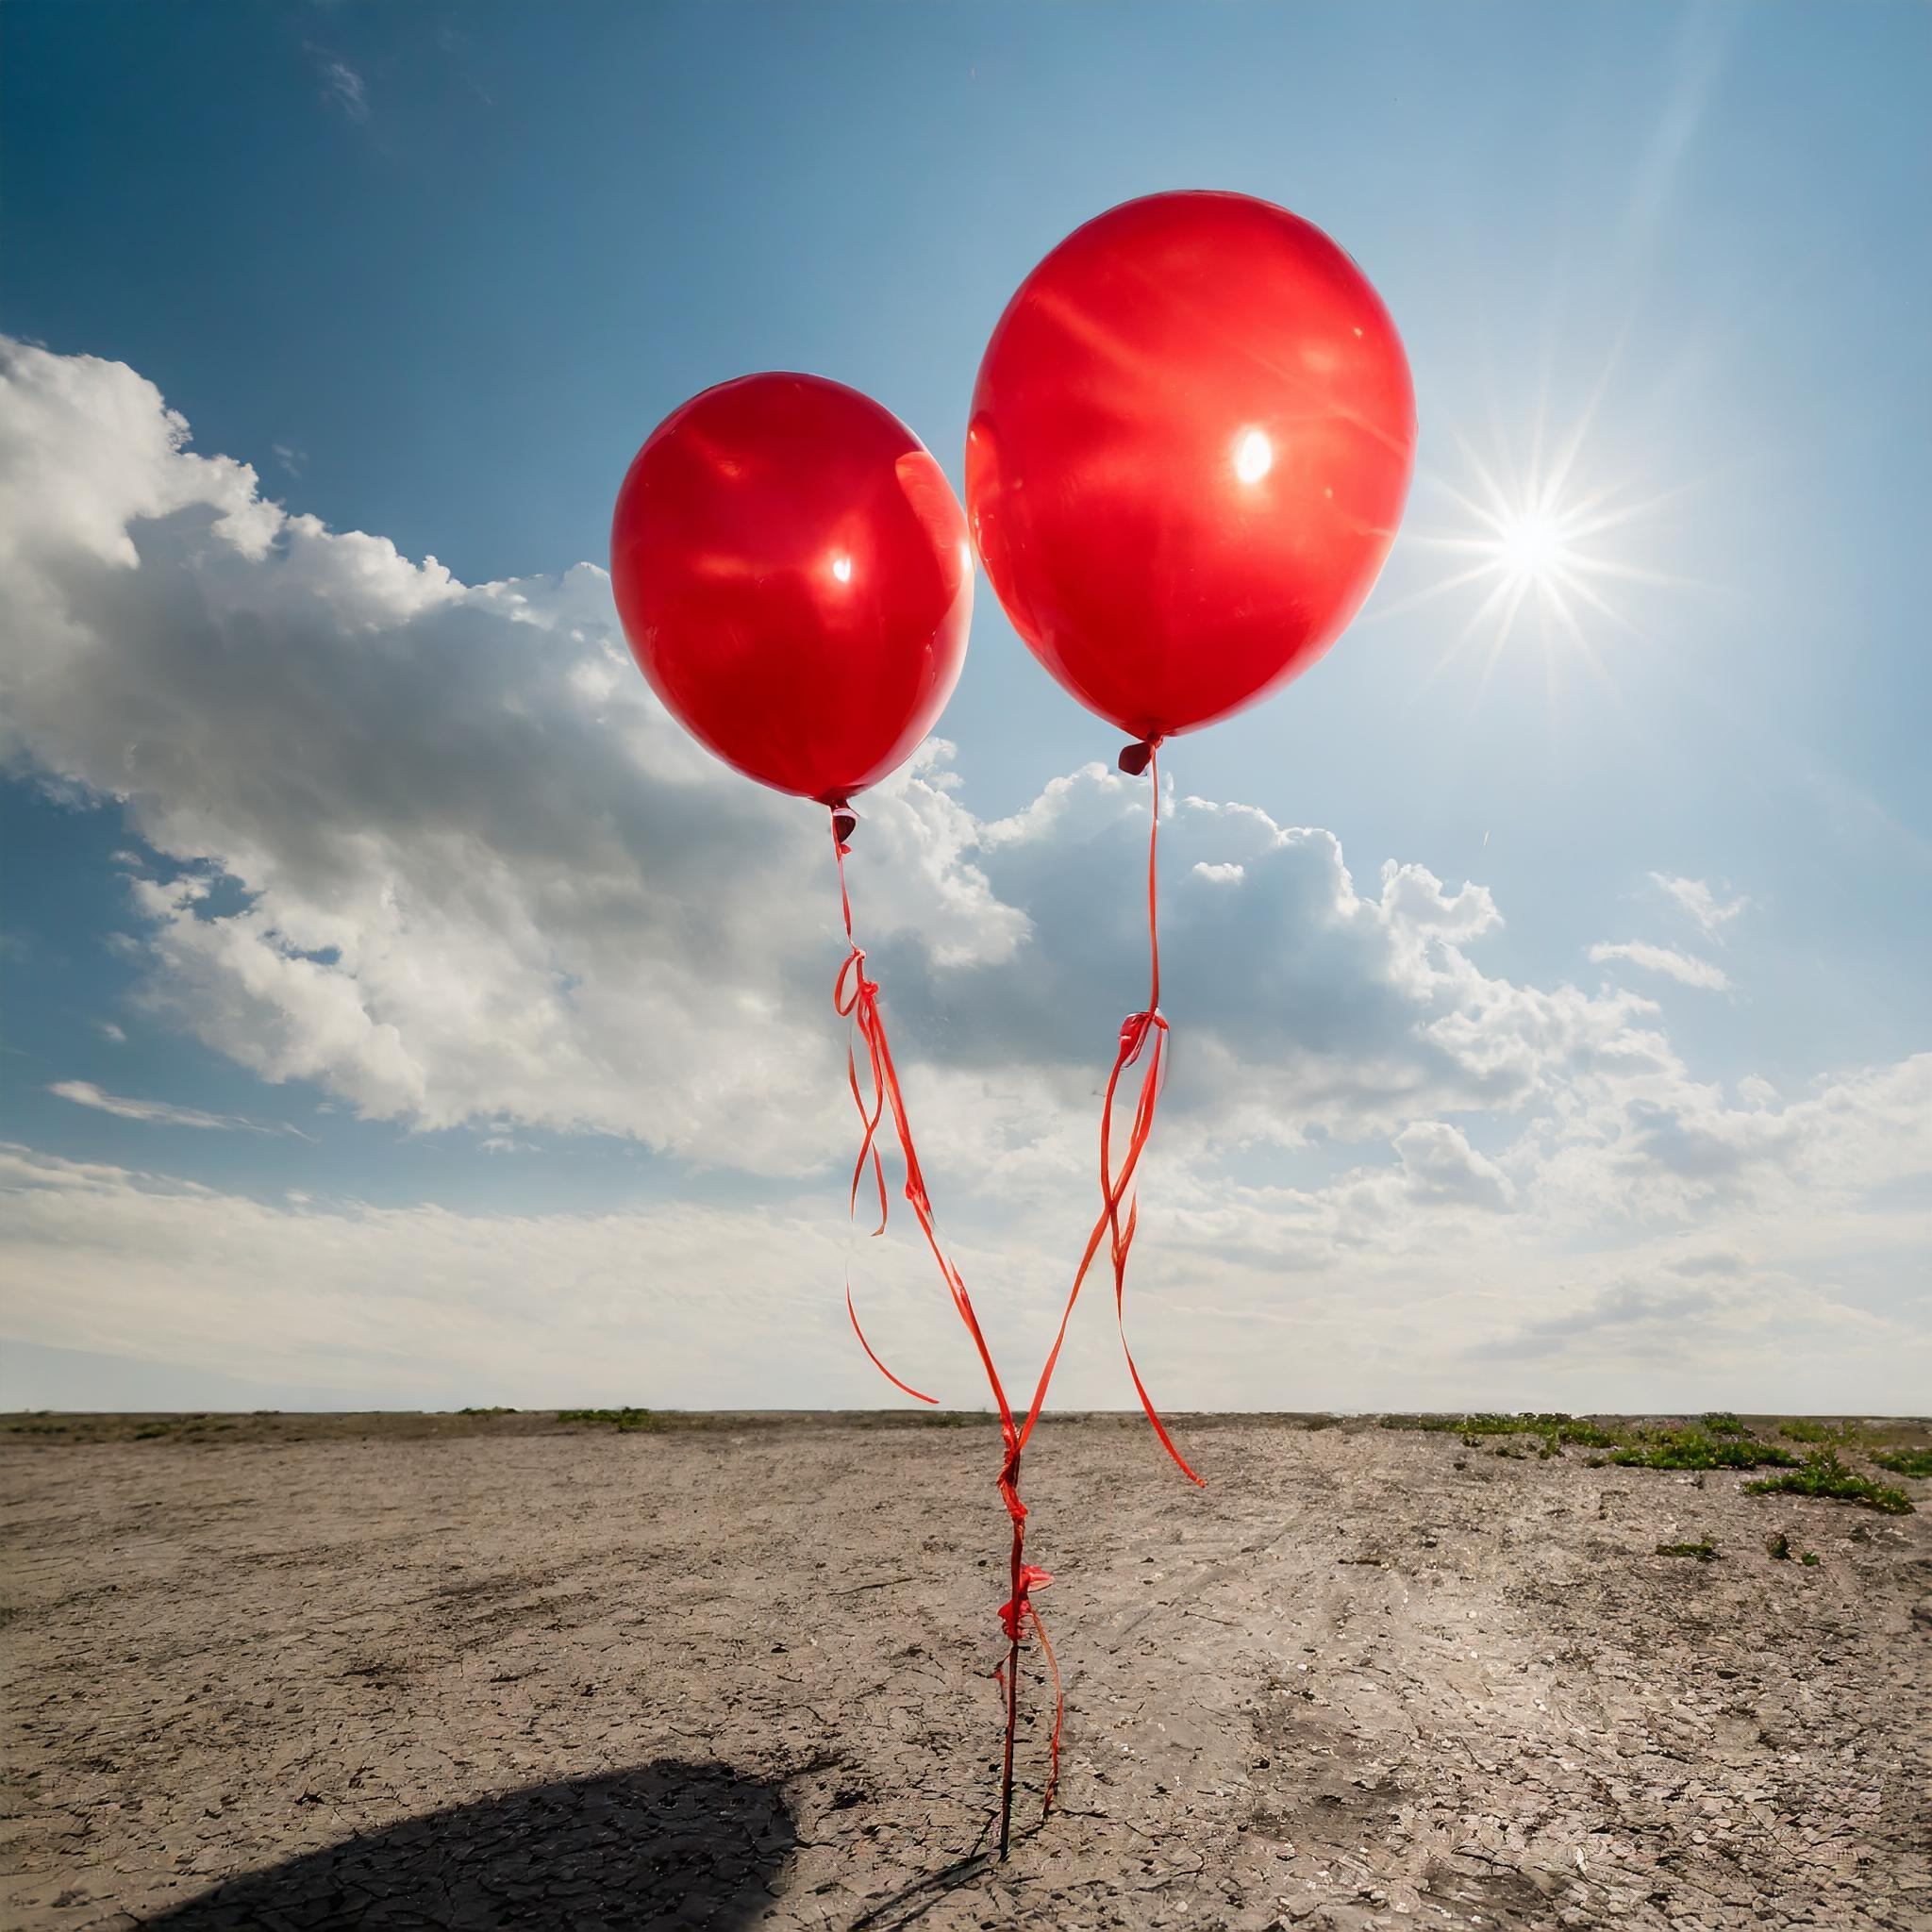red: (954, 161, 1437, 814), (609, 364, 993, 860)
